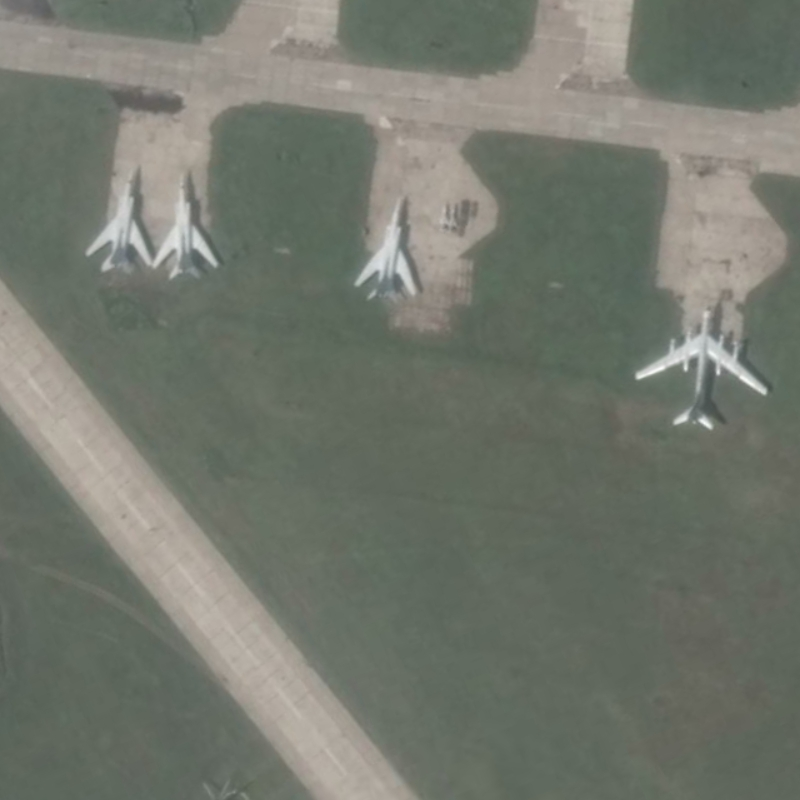A12: (149, 171, 221, 282), (83, 167, 155, 277), (352, 196, 419, 305)
A17: (632, 303, 770, 432)
